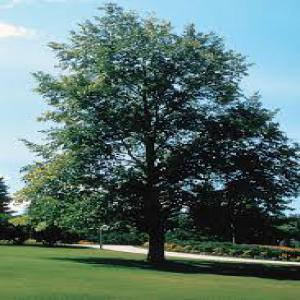Tree: (13, 2, 295, 272)
